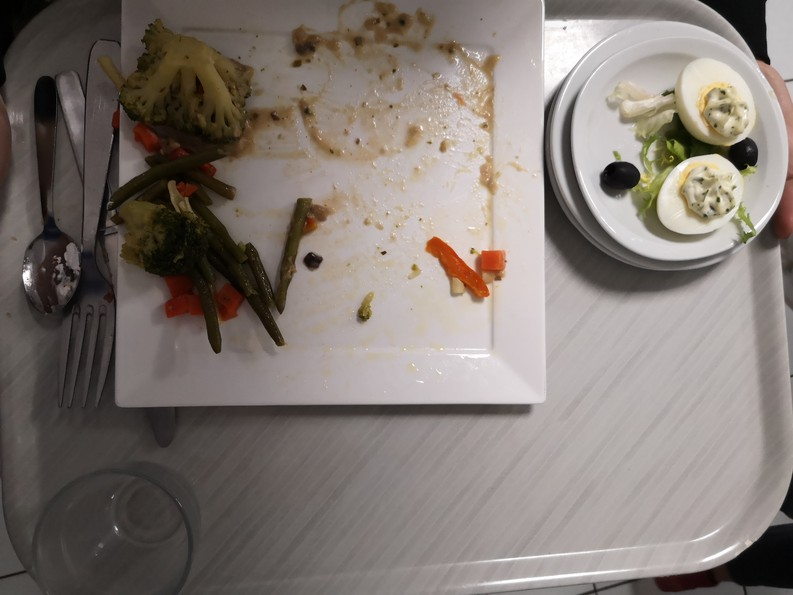cup: (1, 448, 222, 595)
cutlery: (15, 32, 122, 419)
orga: (115, 169, 301, 351), (610, 54, 760, 242), (110, 28, 254, 169), (428, 234, 510, 308)
